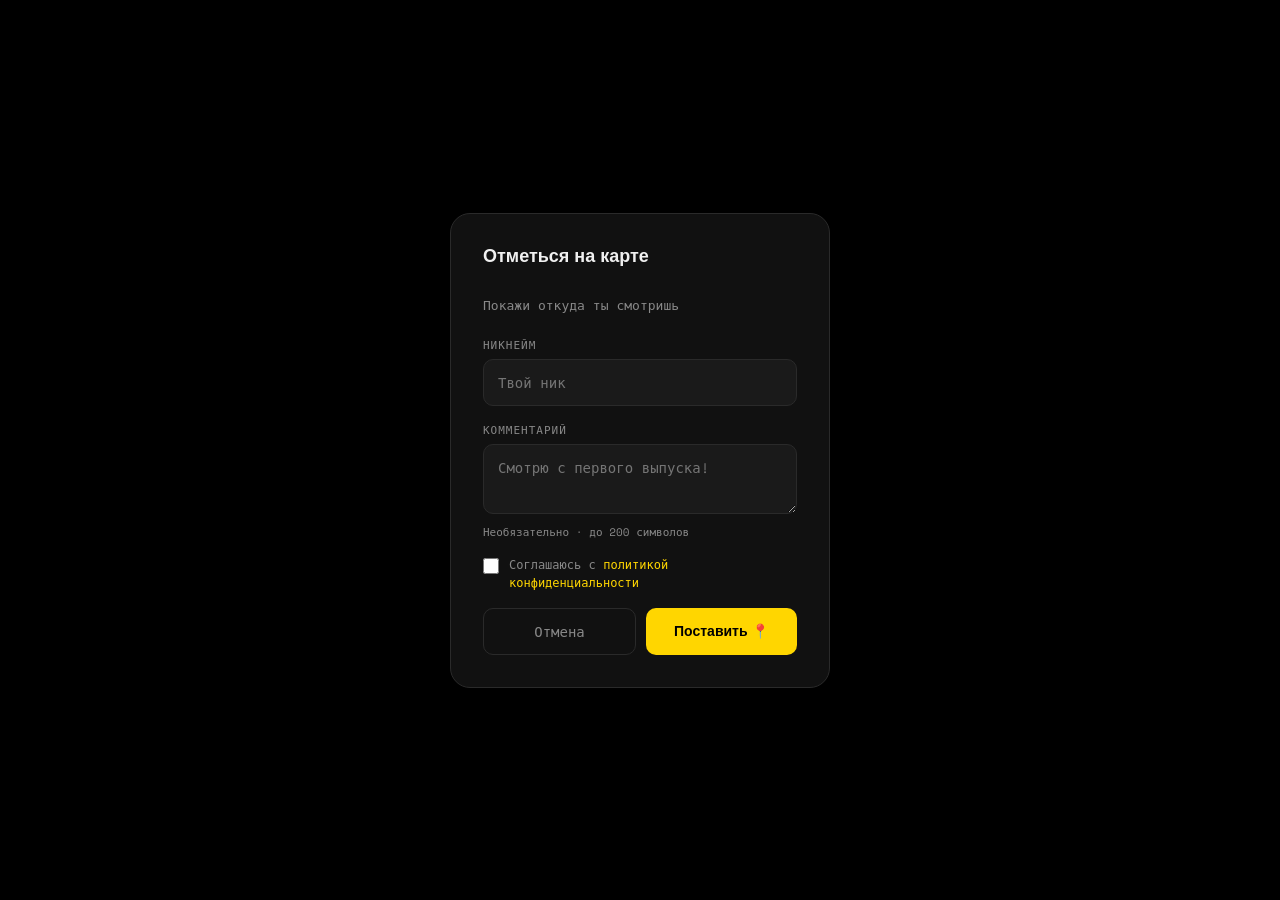
AddPinModal › показывает предупреждение если ник уже занят
The image size is (1280, 900).
Type "Тестер" into the field with placeholder "Твой ник". click: (640,382)
box: 483,358 -> 797,406
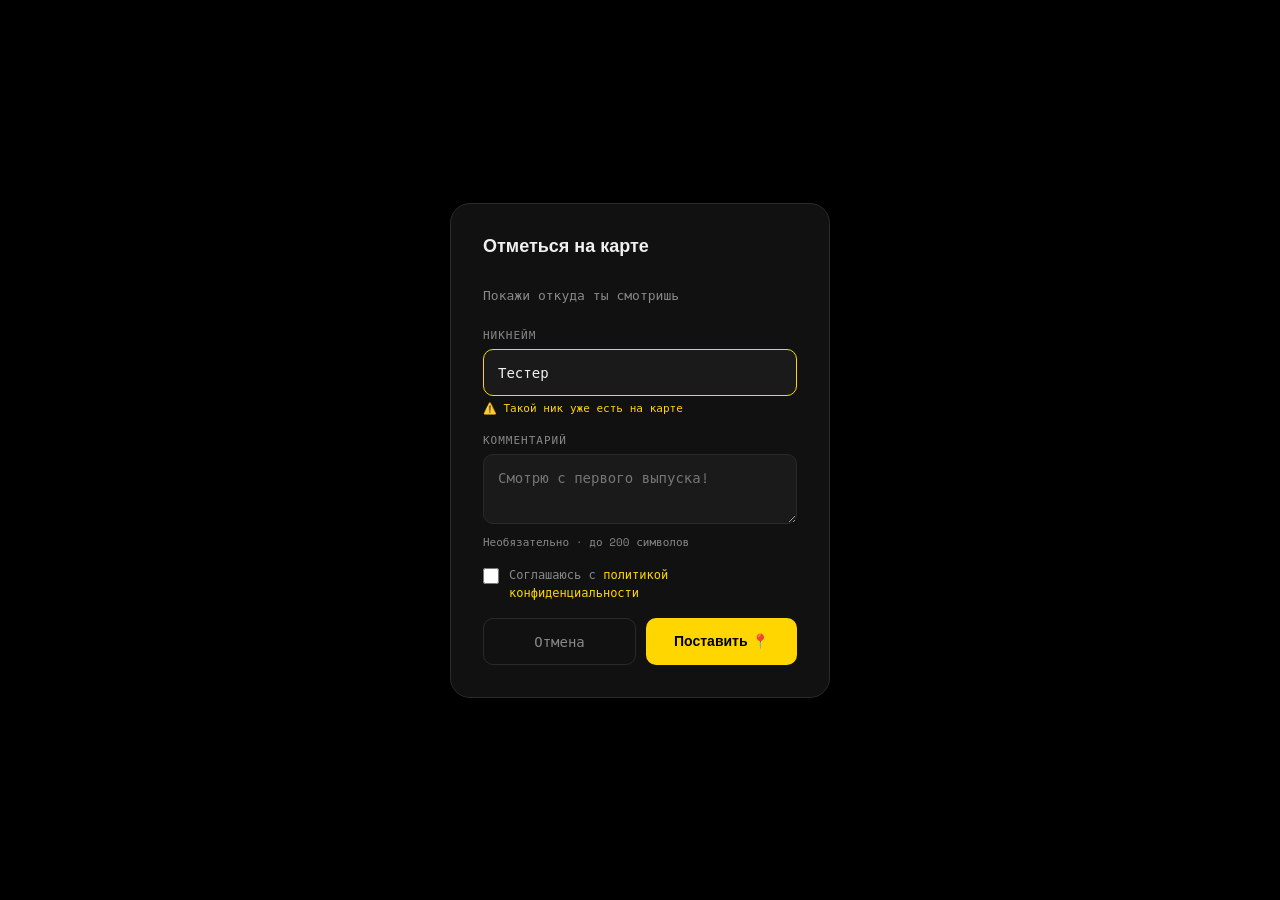
Now the text "⚠️ Такой ник уже есть на карте" is shown, box 483,400 -> 683,416
